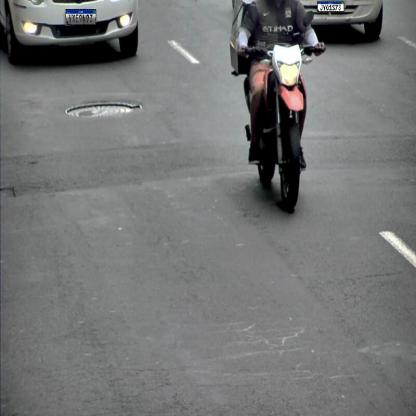PlacaM: (66, 9, 96, 25), (317, 1, 344, 12)
